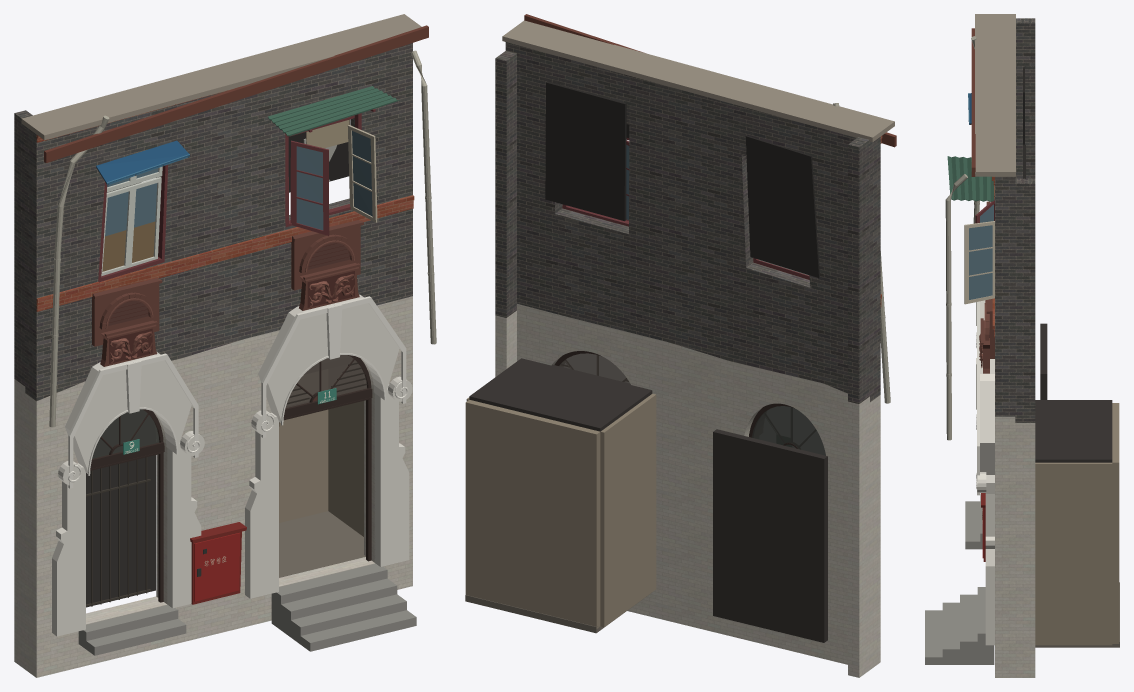
Rendered from hongkou-wujin-225-paired-residential-entrances-lod.glb.
3 views of the same model, side by side, from view 1: azimuth 30°, elevation 25°; view 2: azimuth 150°, elevation 25°; view 3: azimuth 270°, elevation 25° (orthographic). The views are drawn at different scales.
Parts seen in each view (by area): view 1: 武进路225弄9、11号双券宅门; view 2: 武进路225弄9、11号双券宅门; view 3: 武进路225弄9、11号双券宅门.
Part boxes in pixels (x1=…): 武进路225弄9、11号双券宅门: x1=14, y1=14, x2=436, y2=677; 武进路225弄9、11号双券宅门: x1=465, y1=14, x2=896, y2=677; 武进路225弄9、11号双券宅门: x1=925, y1=14, x2=1119, y2=677.
Size of the model in its own units: 6.87 by 9.78 by 3.36.
Materials: 40 (3 with a texture image).
